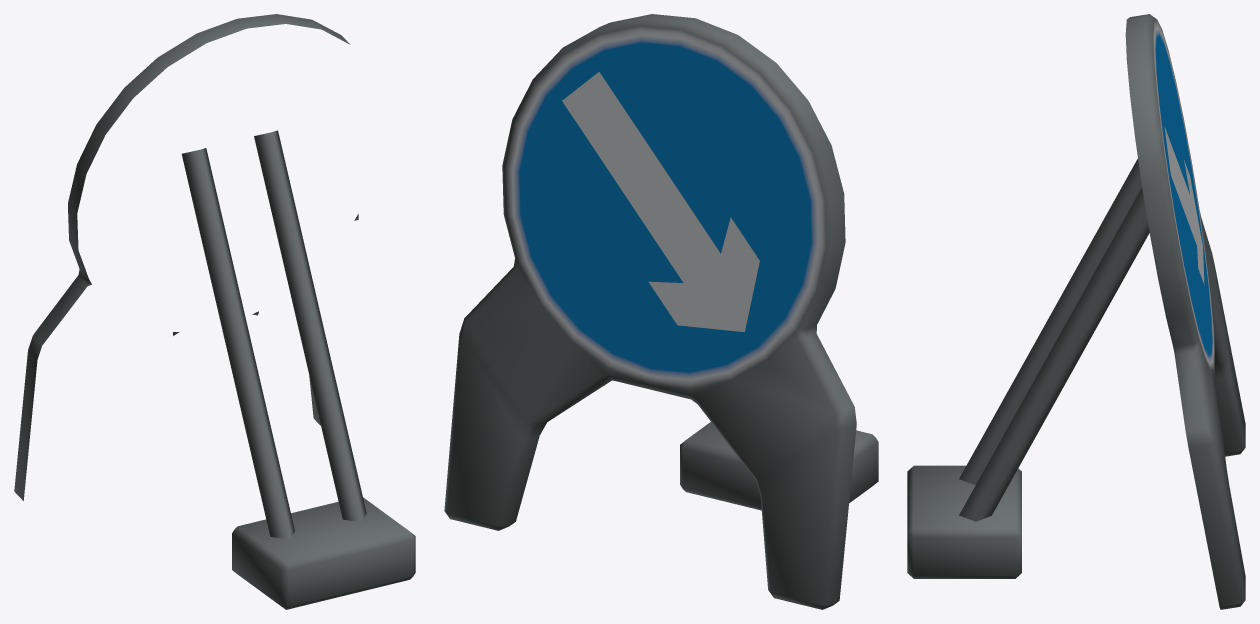
The model's file is RoadWorksArrow.glb.
3 renders of one model, left to right at view 1: azimuth 30°, elevation 25°; view 2: azimuth 150°, elevation 25°; view 3: azimuth 270°, elevation 25°, orthographic. The views are drawn at different scales.
Visible parts, largest first — view 1: RoadWorksArrow; view 2: RoadWorksArrow; view 3: RoadWorksArrow.
Part boxes in pixels (left/top/right/bottom): RoadWorksArrow: left=14, top=14, right=415, bottom=609; RoadWorksArrow: left=444, top=14, right=878, bottom=609; RoadWorksArrow: left=907, top=14, right=1245, bottom=609.
Bounding box in the file's own units: 1.51 × 2 × 1.19.
